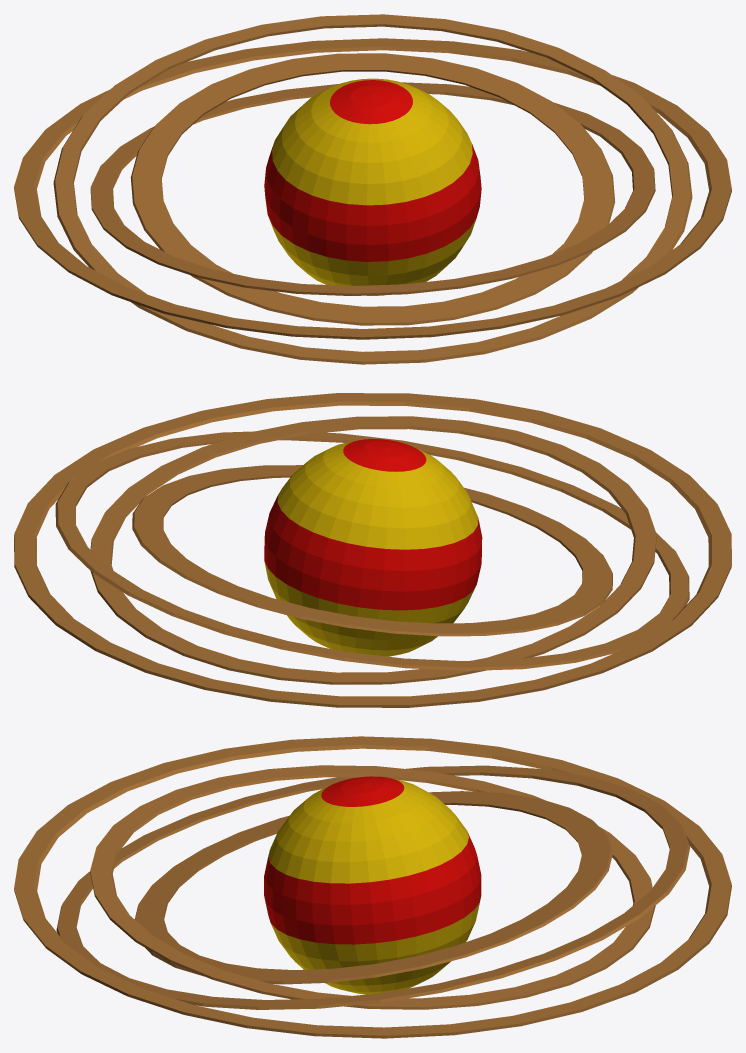
File: Planet2.fbx
3 views of the same model, one above another, from view 1: azimuth 30°, elevation 25°; view 2: azimuth 150°, elevation 25°; view 3: azimuth 270°, elevation 25° (orthographic).
Parts seen in each view (by area): view 1: Sphere; view 2: Sphere; view 3: Sphere.
Boxes of the visible parts, x1,y1,x2,y2 form: Sphere: [14, 14, 731, 364]; Sphere: [14, 393, 731, 707]; Sphere: [14, 736, 731, 1038].
Bounding box in the file's own units: 2704 × 819 × 2700.
